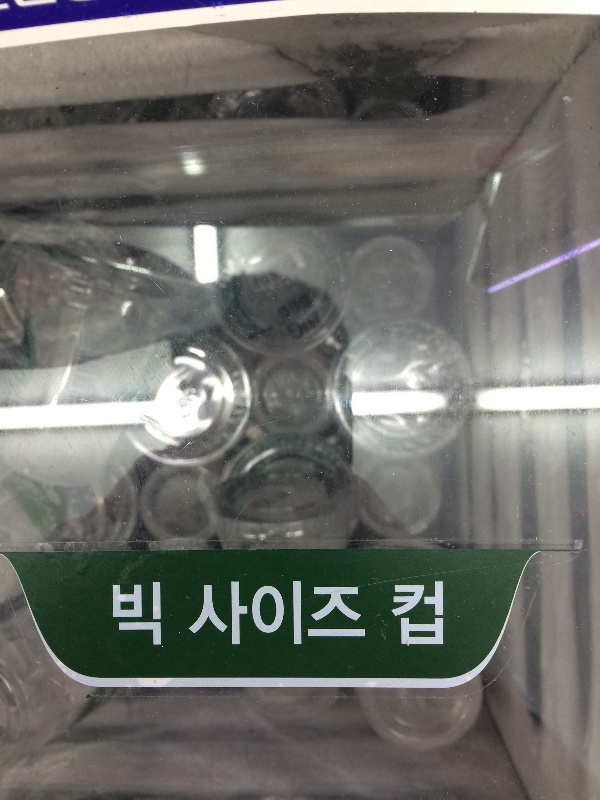text: (353, 581, 369, 648), (113, 582, 128, 651), (129, 582, 144, 651), (145, 582, 160, 651), (209, 581, 224, 648), (225, 581, 240, 648), (241, 581, 256, 648), (257, 581, 272, 648), (273, 581, 288, 648), (289, 581, 304, 648), (305, 581, 320, 648), (321, 581, 336, 648), (337, 581, 352, 648), (401, 582, 416, 647), (417, 582, 432, 647), (433, 582, 444, 647), (392, 582, 400, 647), (203, 581, 208, 648), (161, 582, 162, 651)
